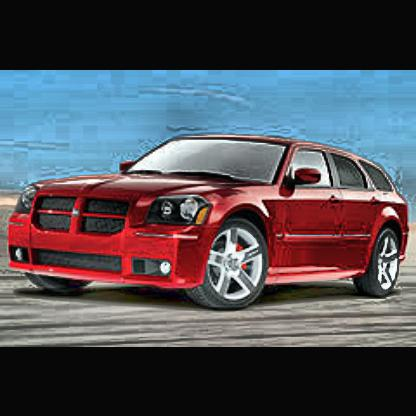Dodge Magnum Wagon 2008: (10, 132, 415, 312)
